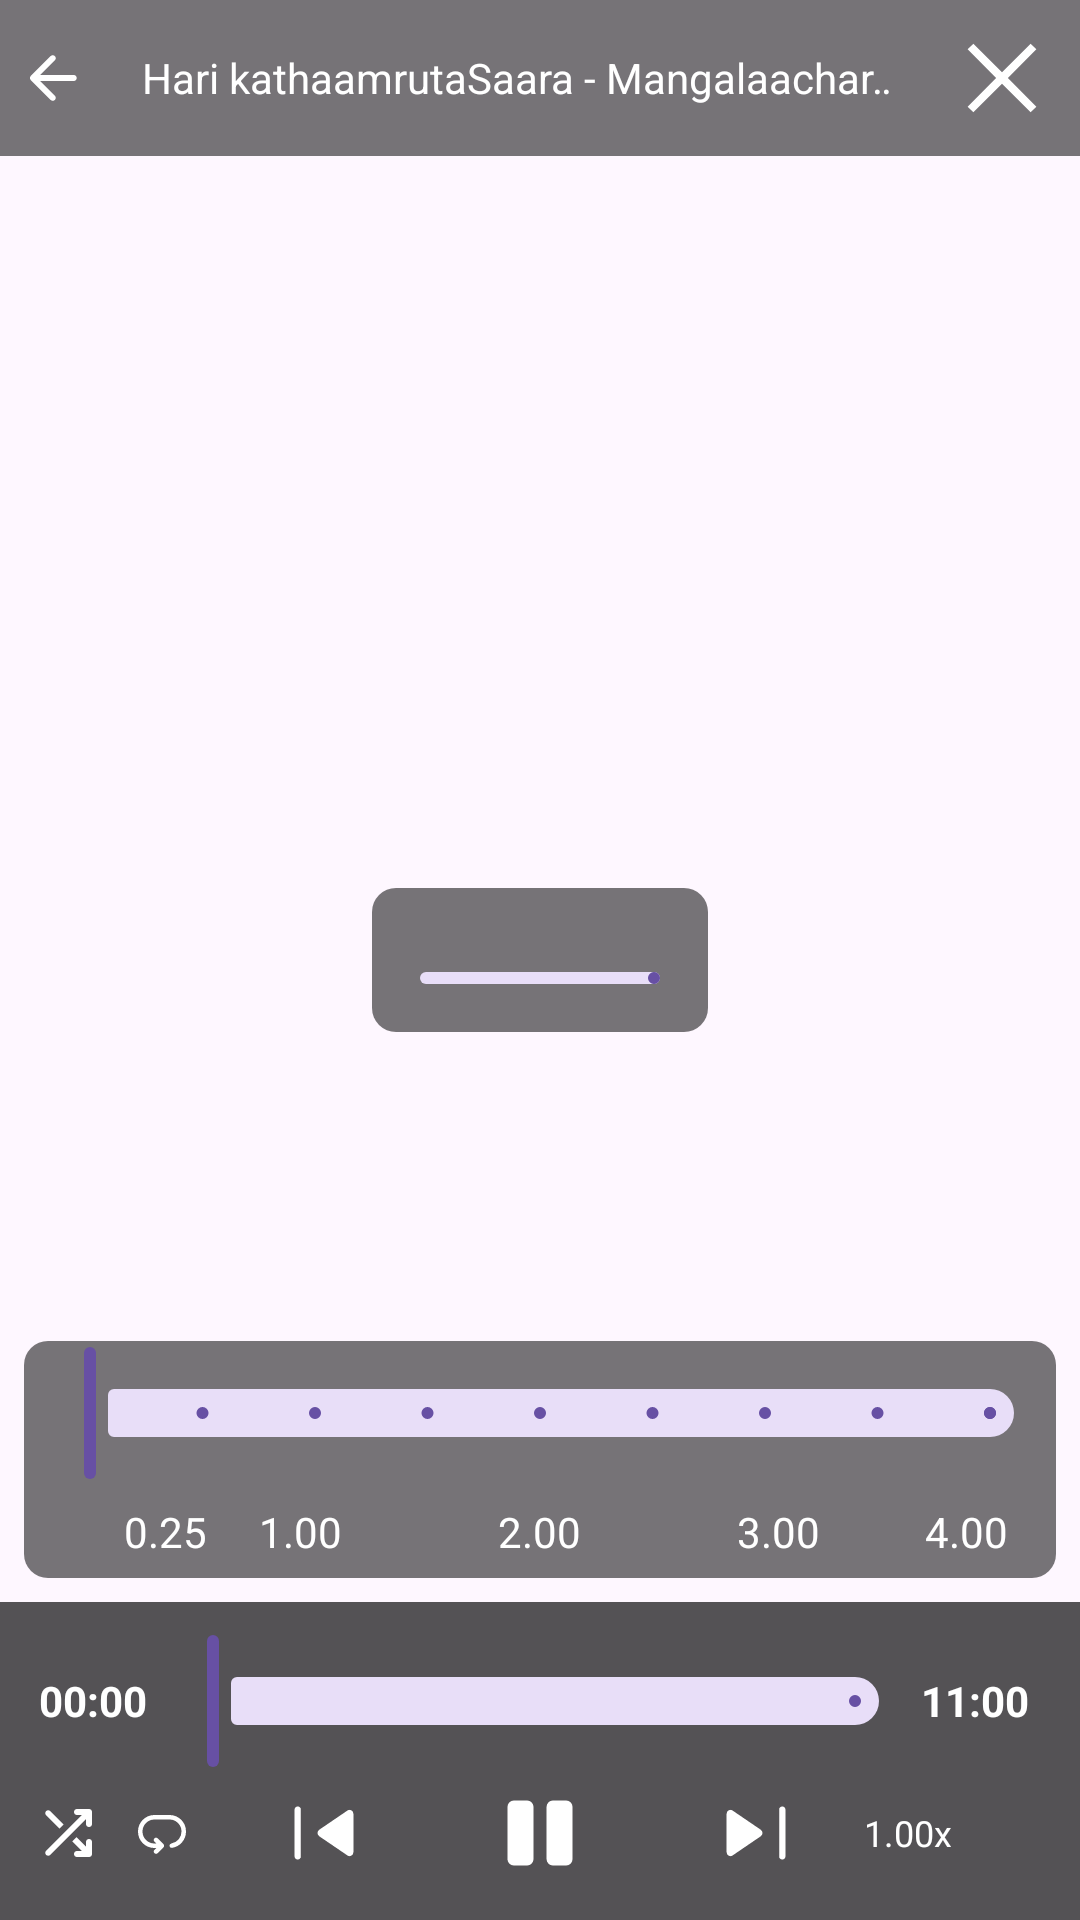

Where to tap for icons on this 1080px×1920px app screen, as [x,y]:
Close the player: [1002,78]
controller arrow back: [53,78]
controller loop: [162,1834]
controller pause: [540,1833]
controller shuffle: [68,1833]
controller skip next: [756,1833]
controller skip previous: [324,1833]
